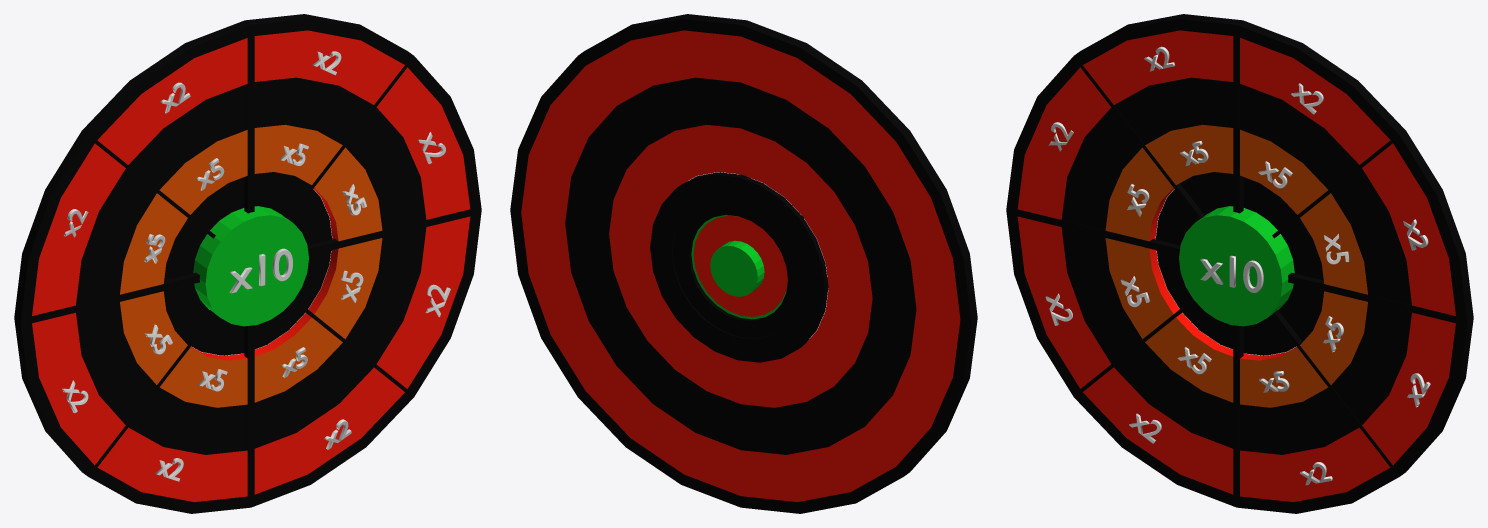
The model's file is dart_board.fbx.
3 renders of one model, left to right at view 1: azimuth 30°, elevation 25°; view 2: azimuth 150°, elevation 25°; view 3: azimuth 330°, elevation 25°, orthographic.
Visible parts, largest first — view 1: 靶子01, 靶子02, 靶子03, 靶子08, 靶子06, 靶子02.001, 靶子02.002, Box03, Box07, Box08, Box09, Text; view 2: 靶子01, 靶子02, 靶子03, 靶子08, 靶子02.001, 靶子02.002, 靶子05, 靶子06; view 3: 靶子01, 靶子02, 靶子03, 靶子08, 靶子06, 靶子02.001, 靶子02.002, Box07, Box03, Box09, Box08, Text.
Part boxes in pixels (box(x1,y1,x2,y2)): 靶子01: box(32, 30, 470, 502); 靶子02: box(76, 77, 426, 454); 靶子03: box(120, 124, 382, 407); 靶子08: box(14, 14, 481, 513); 靶子06: box(193, 206, 308, 326); 靶子02.001: box(164, 172, 332, 355); 靶子02.002: box(179, 191, 310, 332); Box03: box(244, 35, 254, 496); Box07: box(31, 209, 470, 323); Box08: box(94, 65, 407, 467); Box09: box(95, 140, 407, 392); Text: box(229, 248, 292, 293); 靶子01: box(521, 30, 960, 502); 靶子02: box(565, 77, 916, 454); 靶子03: box(609, 124, 872, 407); 靶子08: box(510, 14, 977, 513); 靶子02.001: box(650, 172, 828, 362); 靶子02.002: box(672, 198, 803, 338); 靶子05: box(693, 215, 787, 316); 靶子06: box(691, 215, 787, 319); 靶子01: box(1017, 30, 1455, 502); 靶子02: box(1061, 77, 1411, 454); 靶子03: box(1105, 124, 1367, 407); 靶子08: box(1006, 14, 1473, 513); 靶子06: box(1179, 206, 1294, 326); 靶子02.001: box(1155, 172, 1323, 355); 靶子02.002: box(1177, 191, 1308, 332); Box07: box(1017, 209, 1456, 323); Box03: box(1233, 35, 1243, 496); Box09: box(1080, 65, 1392, 467); Box08: box(1080, 140, 1392, 392); Text: box(1200, 255, 1263, 292).
Size of the model in its own units: 1654 by 1654 by 135.
